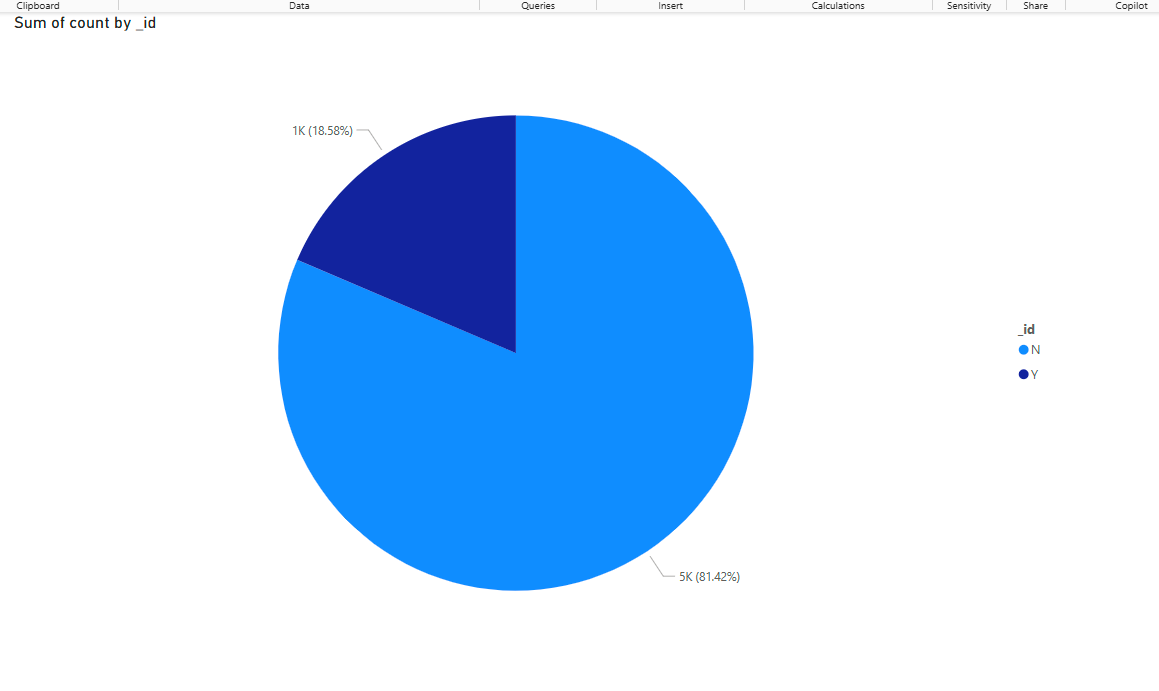

Layout of this report page (visuals, bound fields, positions):
{"tool":"powerbi","page":{"name":"Page 2","canvas":[1280,720],"ordinal":1},"visuals":[{"type":"pieChart","fields":{"Category":["airline_status_distribution._id"],"Y":["Sum(airline_status_distribution.count)"]},"box":[10.5,0,1072.1,676.2],"z":0}]}

Visuals, with their boxes on the page's 1280x720 design canvas (x1, y1, x2, y2). These are canvas units, not pixel positions in the 1159x691 screenshot, which may show the page scaled, cropped or inside an application window:
pieChart - airline_status_distribution._id x Sum(airline_status_distribution.count): [x1=10, y1=0, x2=1083, y2=676]
